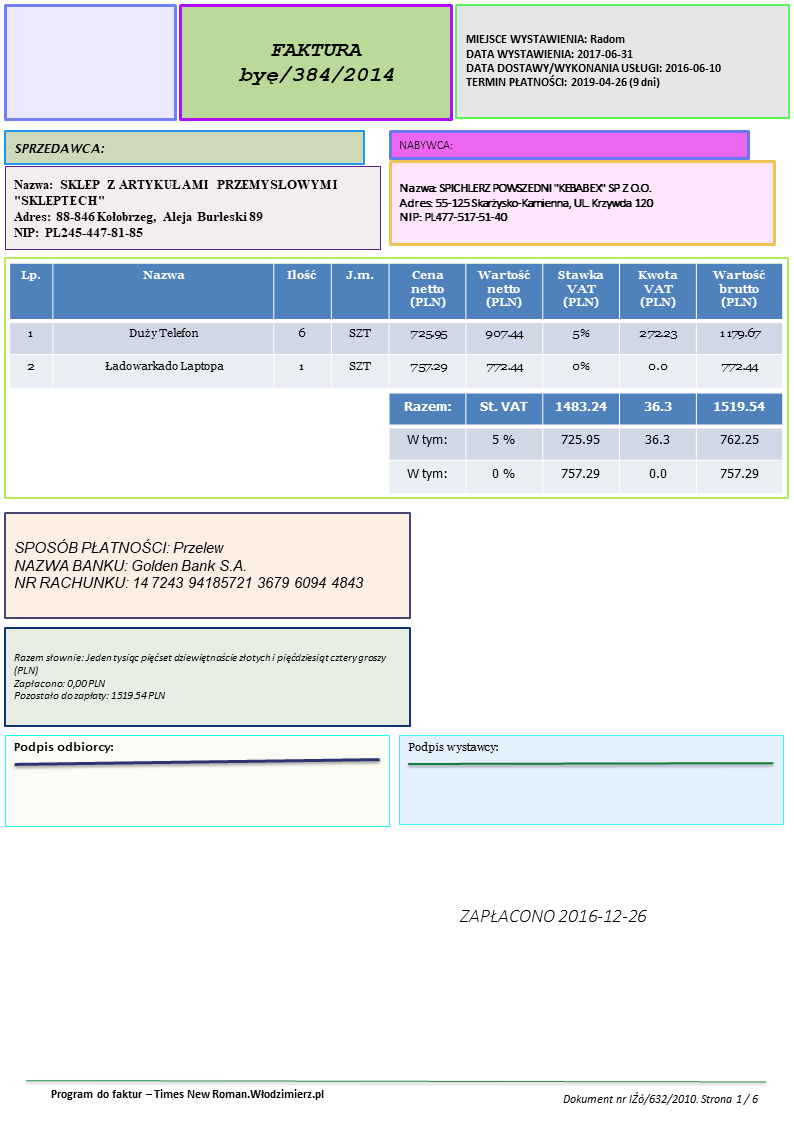Table: (8, 261, 784, 390), (388, 392, 784, 494)
TextBox: (11, 176, 341, 241), (10, 649, 389, 704), (12, 536, 365, 594), (463, 30, 724, 93), (395, 178, 658, 227), (233, 35, 398, 88), (456, 903, 649, 927), (47, 1086, 328, 1102), (561, 1090, 760, 1107), (11, 738, 117, 757), (405, 738, 500, 759), (12, 138, 106, 159), (395, 137, 455, 153)
